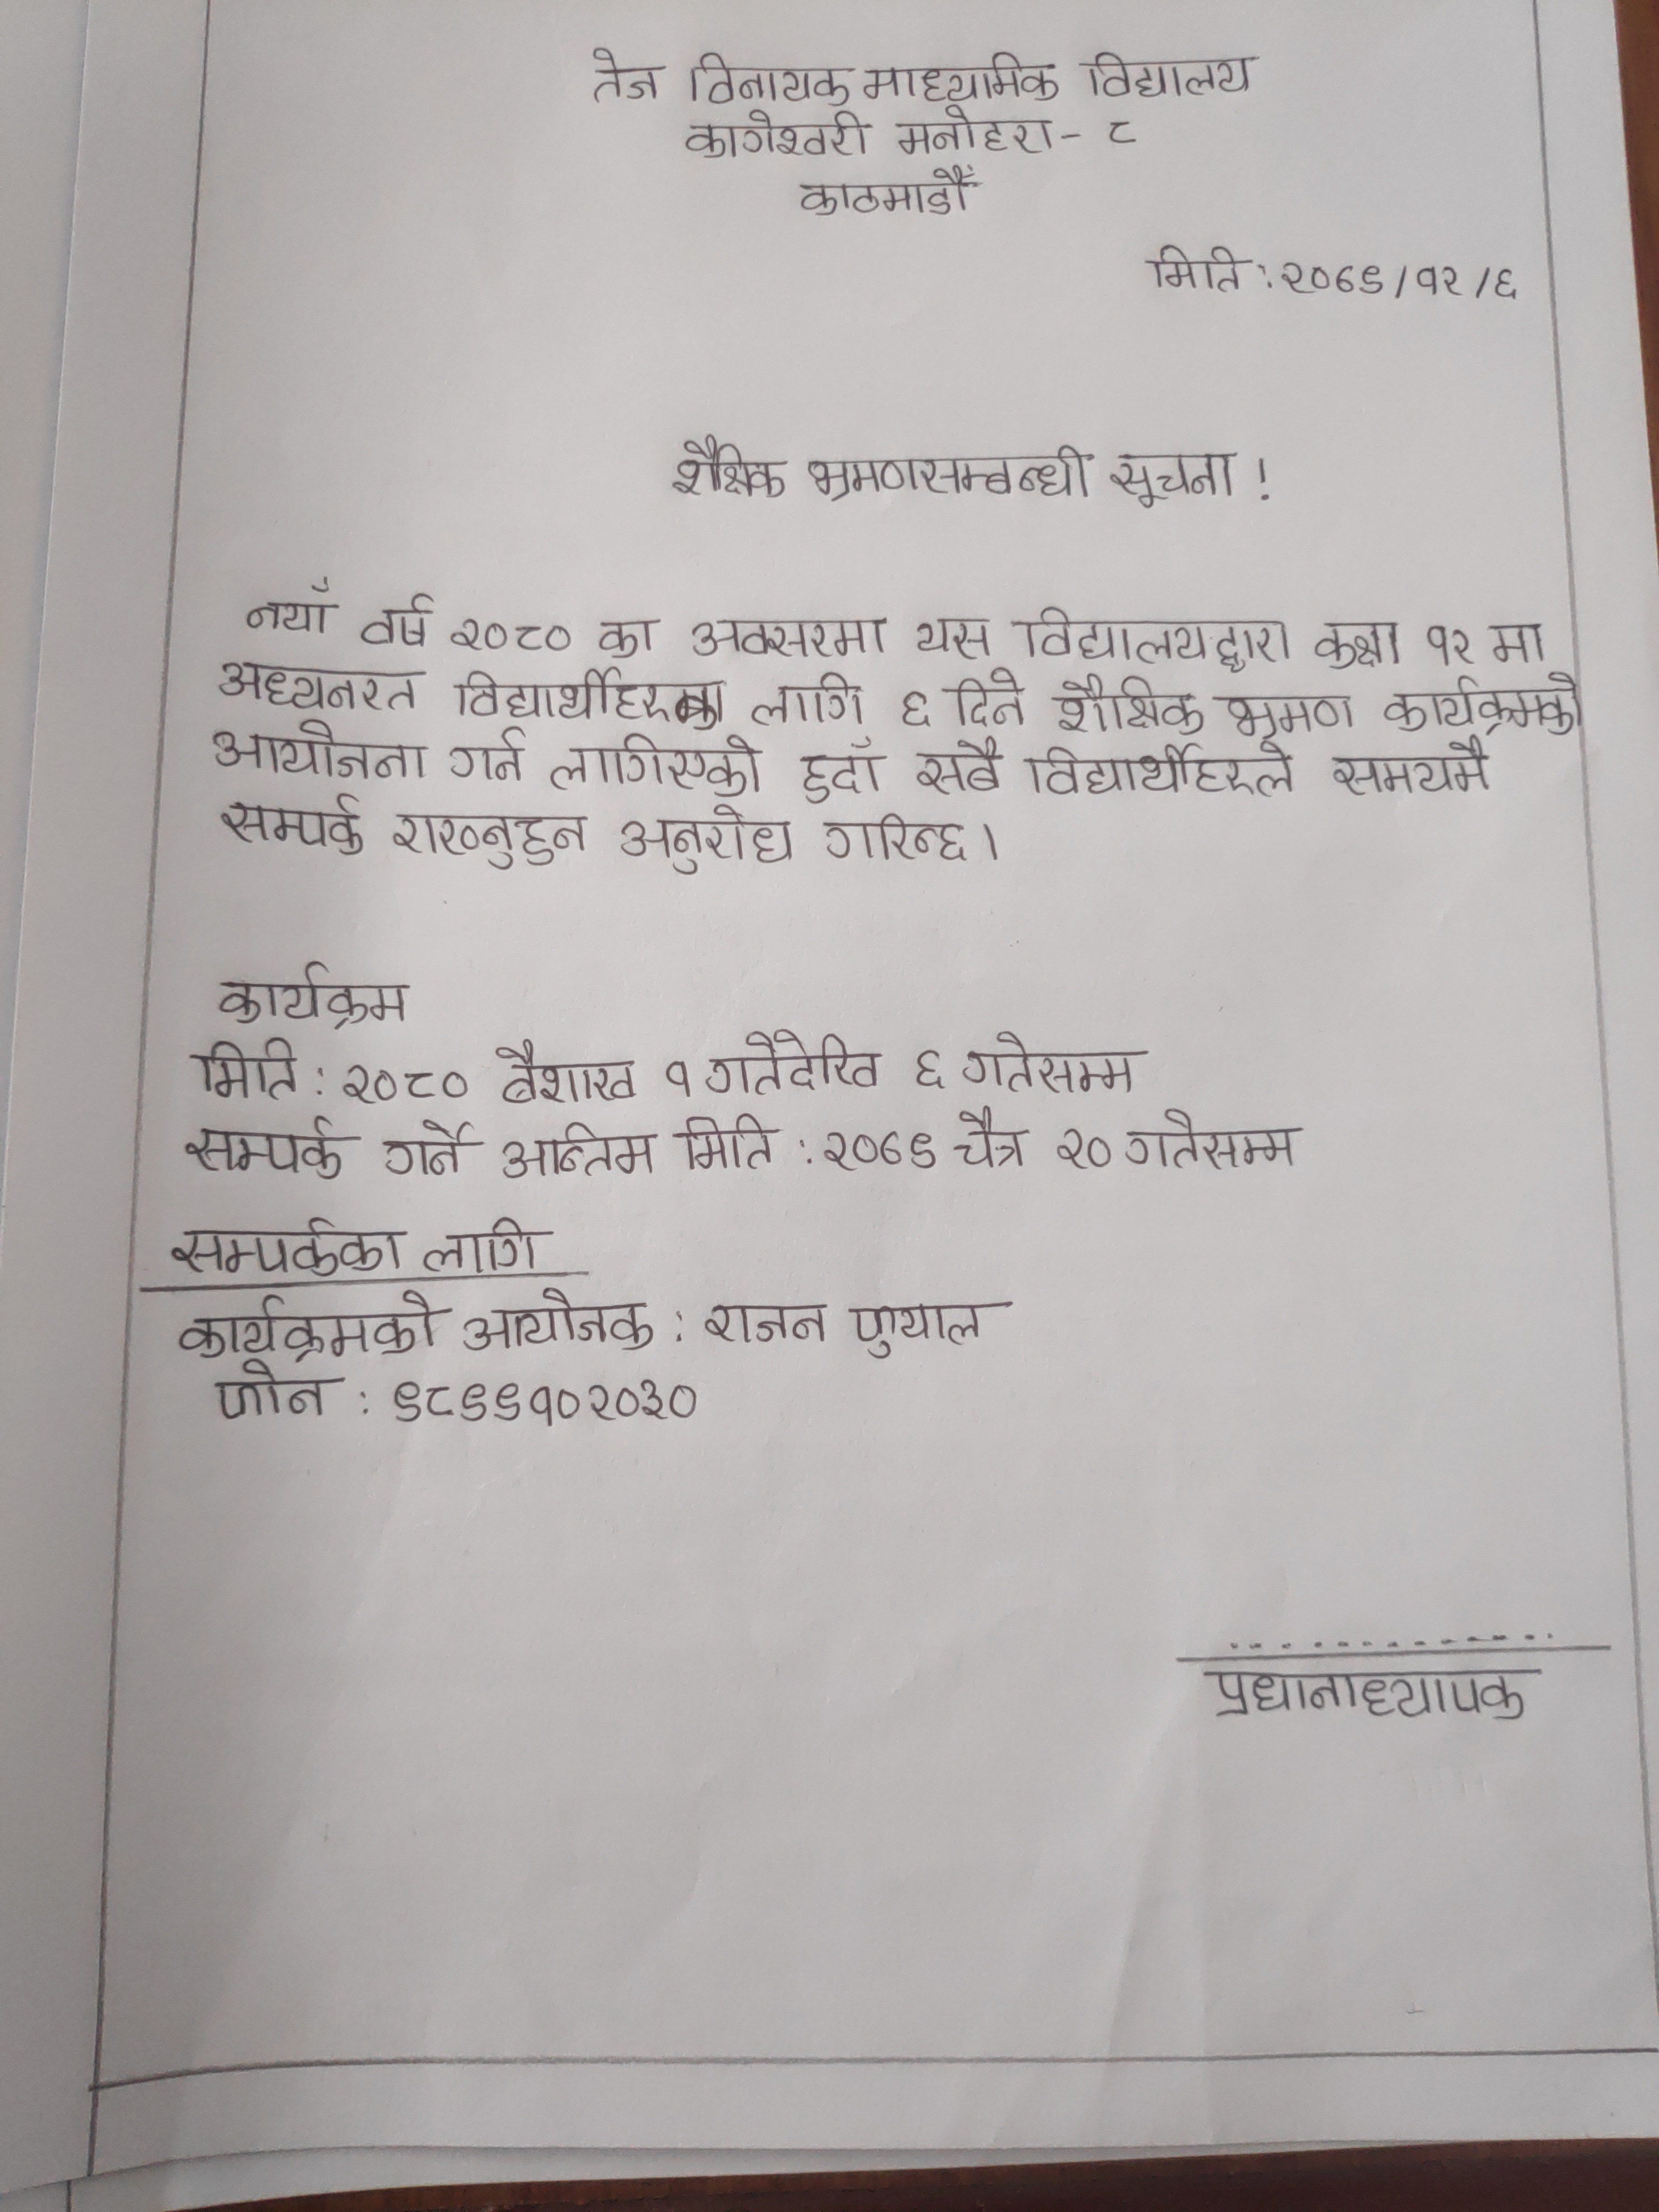text: (1195, 1662, 1544, 1726), (173, 1289, 443, 1364), (444, 662, 730, 732), (1012, 606, 1297, 672), (382, 1371, 697, 1428), (802, 444, 1094, 503), (1021, 738, 1297, 799), (202, 716, 429, 784), (1277, 251, 1523, 312), (204, 960, 416, 1029), (166, 1217, 406, 1278), (547, 732, 763, 796), (1384, 669, 1584, 735), (706, 1029, 882, 1103), (211, 653, 422, 714), (962, 1029, 1150, 1097), (863, 47, 1065, 108), (619, 803, 795, 873), (460, 1292, 659, 1353), (390, 808, 587, 867), (795, 162, 986, 221), (183, 1116, 357, 1181), (1331, 735, 1495, 803), (1126, 1109, 1302, 1170), (1053, 669, 1204, 738), (685, 49, 854, 110), (214, 791, 366, 859), (490, 1042, 645, 1108), (495, 1120, 660, 1181), (849, 1298, 1014, 1359), (678, 110, 875, 160), (688, 617, 890, 665), (1079, 45, 1260, 99), (1105, 444, 1241, 510), (204, 1360, 343, 1425), (812, 812, 971, 864), (666, 434, 786, 502), (890, 108, 1056, 157), (1209, 688, 1354, 742), (423, 1216, 547, 1275), (744, 674, 866, 733), (188, 1040, 303, 1103), (340, 1055, 472, 1109), (667, 1115, 781, 1176), (1141, 239, 1249, 300), (816, 1125, 938, 1177), (704, 1298, 830, 1346), (579, 42, 671, 108), (375, 1118, 474, 1179), (796, 738, 885, 806), (911, 737, 1006, 799), (953, 1109, 1037, 1176), (446, 726, 533, 786), (249, 578, 338, 636), (1312, 615, 1403, 671), (446, 613, 572, 653), (362, 592, 437, 658), (946, 674, 1035, 730), (911, 617, 993, 658), (1054, 1123, 1114, 1176), (1424, 615, 1476, 671), (1483, 620, 1546, 665), (598, 615, 657, 662), (889, 685, 936, 730), (911, 1045, 945, 1092), (660, 1059, 697, 1099), (1107, 113, 1141, 146)
